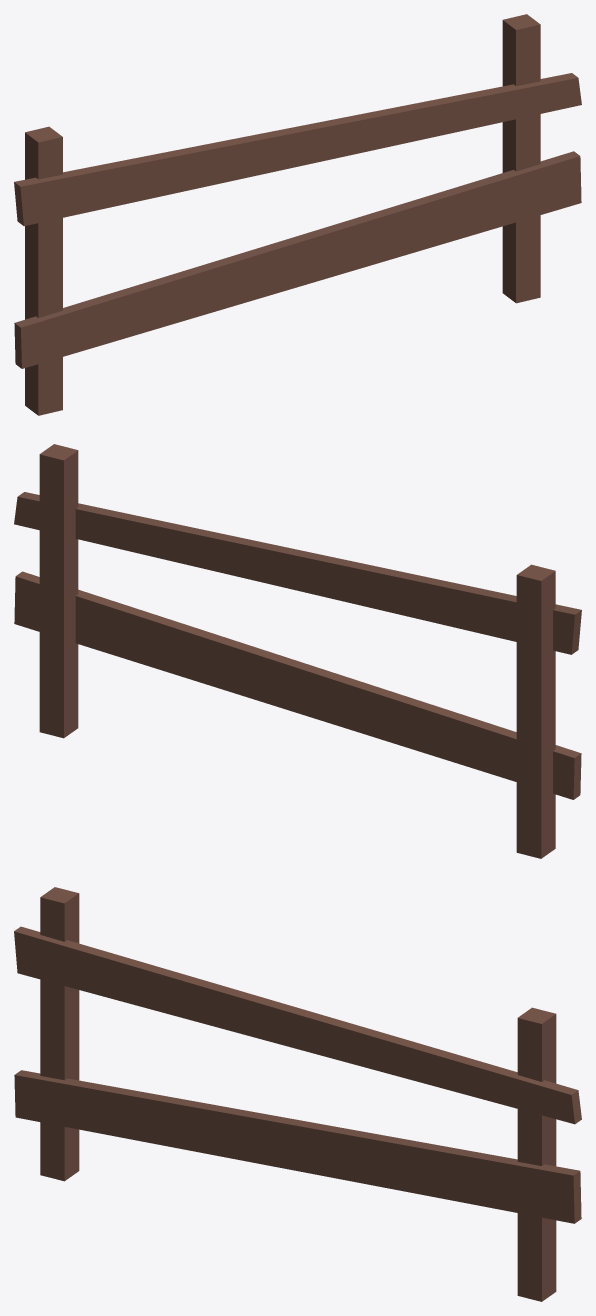
The model's file is props_017.glb.
The picture shows the model from 3 angles, top to bottom: view 1: azimuth 30°, elevation 25°; view 2: azimuth 150°, elevation 25°; view 3: azimuth 330°, elevation 25°; orthographic projection.
Visible parts, largest first — view 1: props_017; view 2: props_017; view 3: props_017.
Boxes of the visible parts, box(x1,y1,x2,y2) form: props_017: box(14, 14, 581, 415); props_017: box(14, 444, 581, 858); props_017: box(14, 887, 581, 1301).
Size of the model in its own units: 4.27 by 2 by 0.3019.
1 material, 1 textured.
